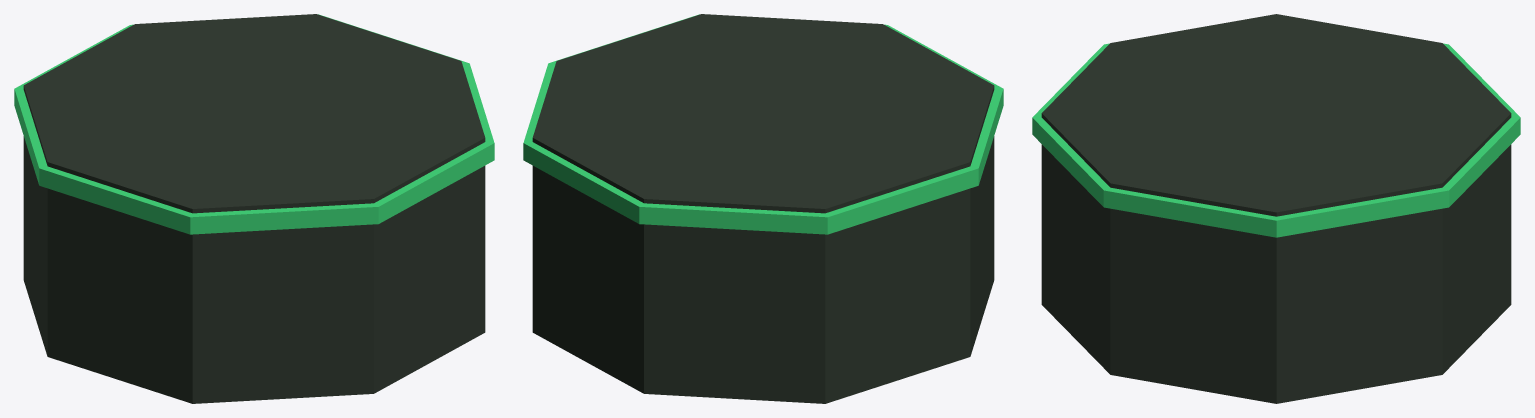
The model's file is archer_base.obj.
3 renders of one model, left to right at view 1: azimuth 30°, elevation 25°; view 2: azimuth 150°, elevation 25°; view 3: azimuth 270°, elevation 25°, orthographic.
Parts seen in each view (by area): view 1: ArcherBase; view 2: ArcherBase; view 3: ArcherBase.
Boxes of the visible parts, x1,y1,x2,y2 form: ArcherBase: [14, 14, 494, 403]; ArcherBase: [523, 14, 1003, 403]; ArcherBase: [1032, 14, 1520, 403].
Size of the model in its own units: 1.04 by 0.45 by 1.04.
